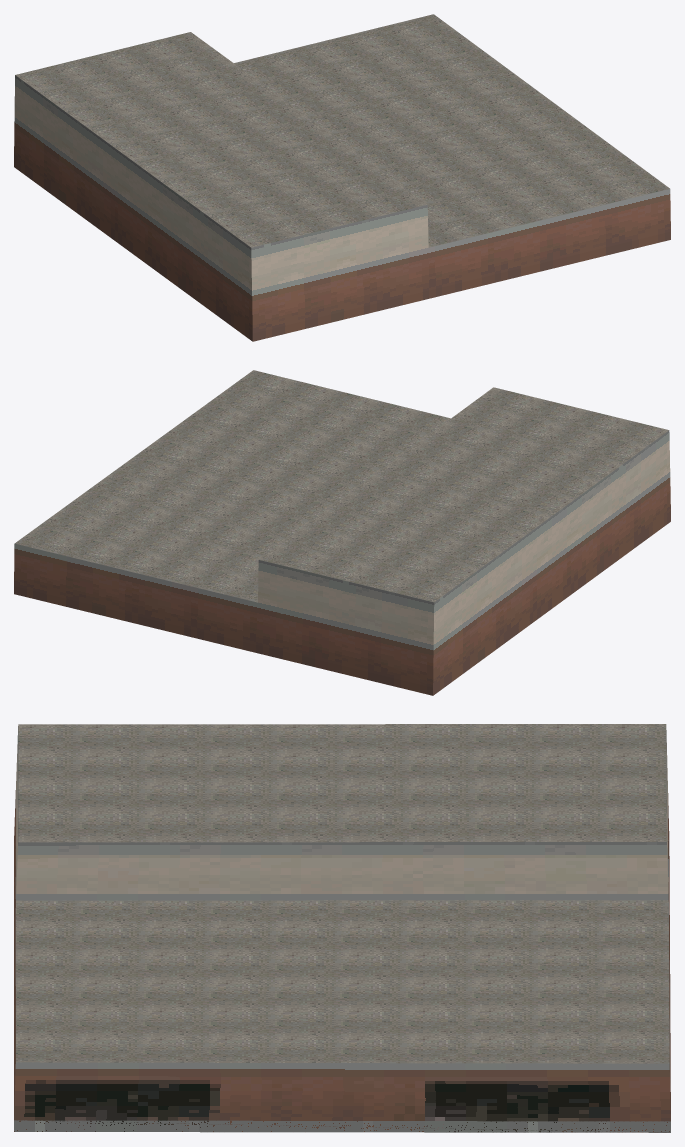
The model's file is lodebuild05_lvs.obj.
3 renders of one model, top to bottom at view 1: azimuth 30°, elevation 25°; view 2: azimuth 150°, elevation 25°; view 3: azimuth 270°, elevation 25°, orthographic. The views are drawn at different scales.
Visible parts, largest first — view 1: lodEbuild05_lvs; view 2: lodEbuild05_lvs; view 3: lodEbuild05_lvs.
Part boxes in pixels (x1,y1,x2,y2): lodEbuild05_lvs: (14,14,670,341); lodEbuild05_lvs: (14,370,670,695); lodEbuild05_lvs: (14,724,670,1132).
Bounding box in the file's own units: 34.54 × 7.31 × 34.1.
2 materials, 2 textured.
